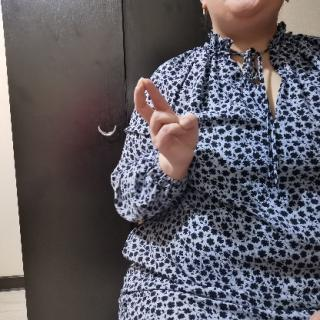ZAY: (134, 74, 206, 177)
